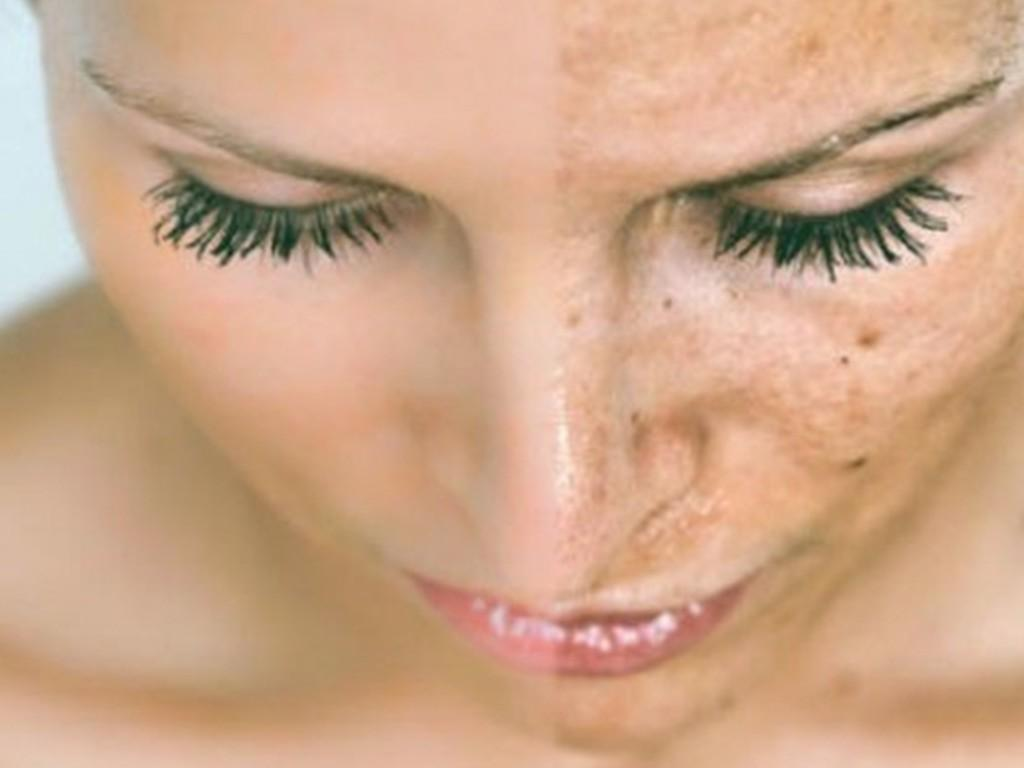Dark-Spots: (553, 0, 1024, 761)
